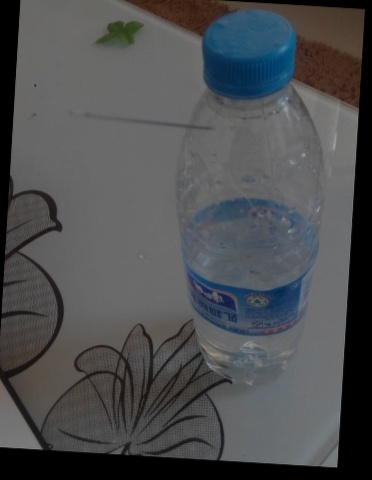bottle: (157, 70, 325, 480)
